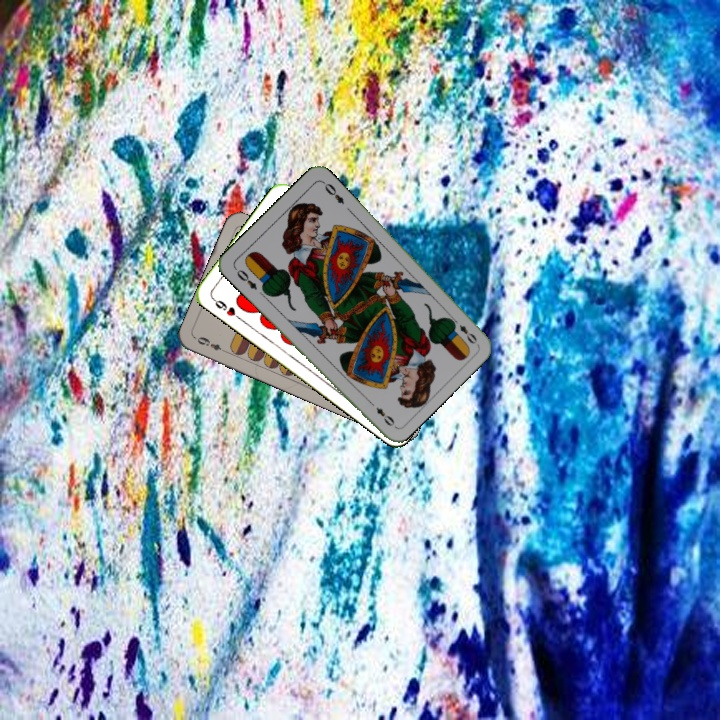E9: (193, 333, 230, 355)
EO: (447, 314, 480, 347), (233, 265, 260, 293)
H9: (208, 294, 243, 322)
